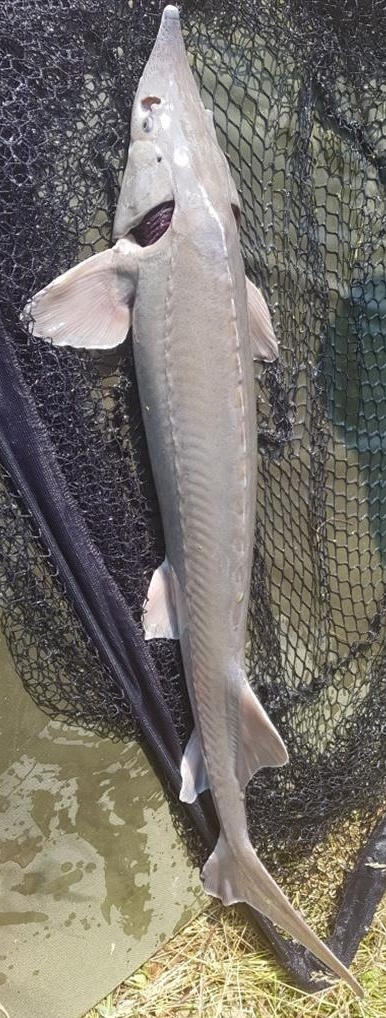Acipenseridae: (20, 1, 366, 998)
